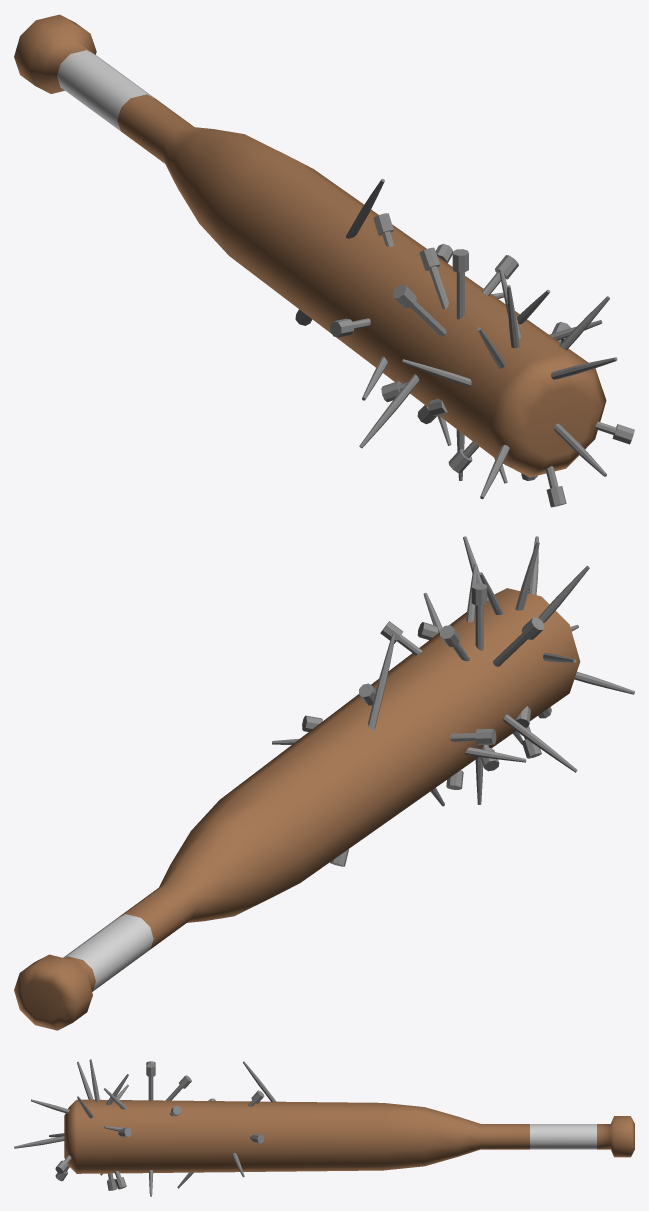
The model's file is bat.fbx.
3 renders of one model, top to bottom at view 1: azimuth 30°, elevation 25°; view 2: azimuth 150°, elevation 25°; view 3: azimuth 270°, elevation 25°, orthographic. The views are drawn at different scales.
Visible parts, largest first — view 1: Bat; view 2: Bat; view 3: Bat.
Boxes of the visible parts, x1,y1,x2,y2 form: Bat: [14, 14, 634, 507]; Bat: [14, 536, 634, 1030]; Bat: [14, 1059, 634, 1196].
Bounding box in the file's own units: 0.2958 × 0.2864 × 1.22.
